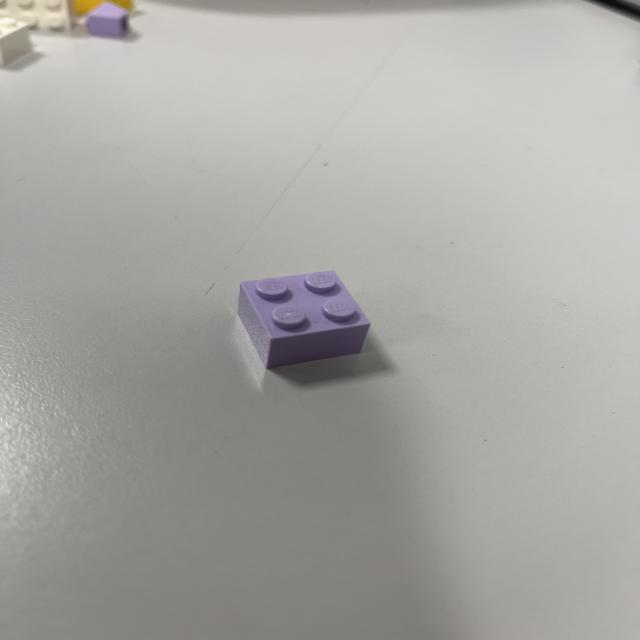C2x2x1: (239, 274, 375, 374)
